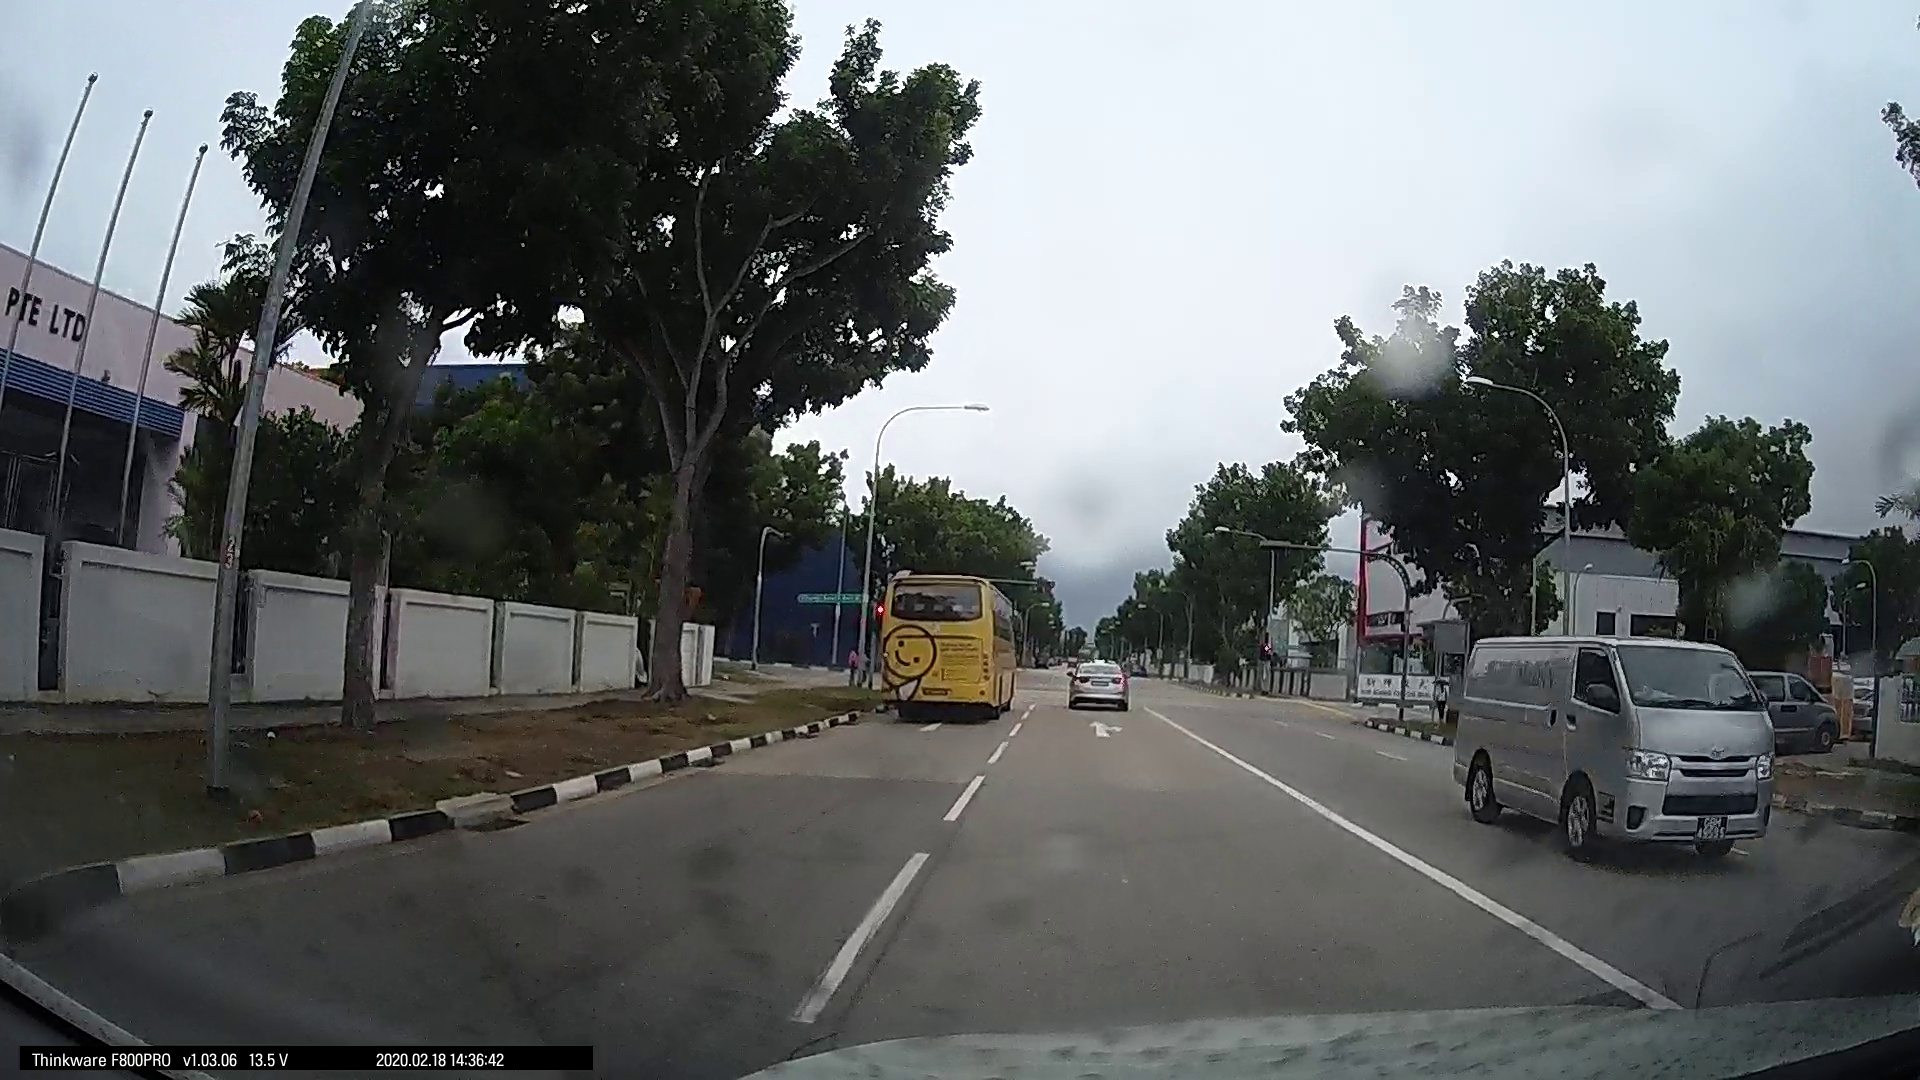Heavy Vehicle: (873, 563, 1017, 732)
Light Vehicle: (1440, 624, 1778, 865), (1741, 661, 1840, 758), (1062, 654, 1130, 713)
